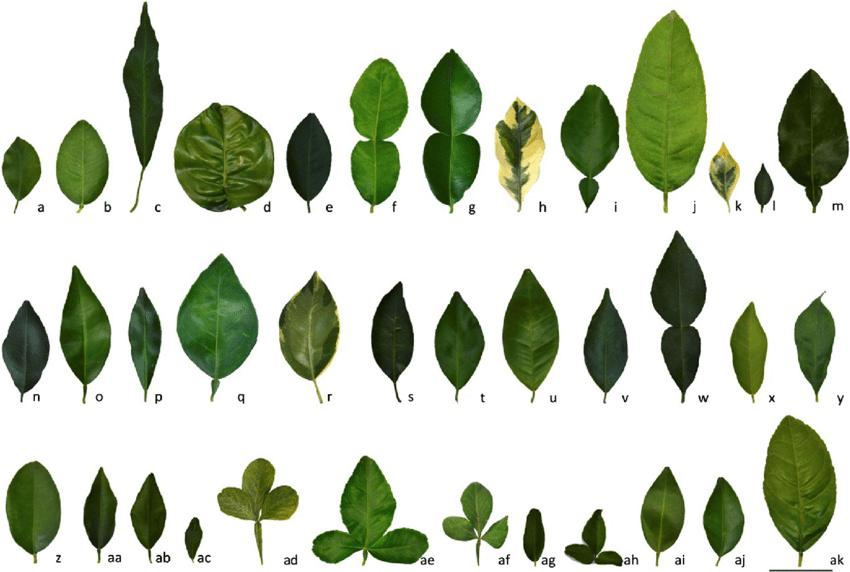Healthy Citrus: (626, 11, 707, 188), (175, 245, 263, 382), (757, 415, 838, 547), (174, 101, 276, 202), (420, 45, 482, 196), (651, 223, 708, 387), (121, 2, 165, 194), (352, 56, 410, 196), (502, 261, 559, 385), (562, 76, 619, 192), (59, 262, 109, 377), (5, 464, 67, 553), (433, 285, 486, 383), (369, 276, 415, 377), (585, 288, 631, 384), (57, 119, 108, 202), (2, 304, 52, 388), (75, 462, 121, 551), (793, 289, 835, 385), (287, 109, 332, 197), (127, 286, 163, 390), (729, 297, 769, 389), (643, 469, 686, 549), (704, 473, 746, 552), (3, 135, 42, 195), (132, 476, 168, 541)
